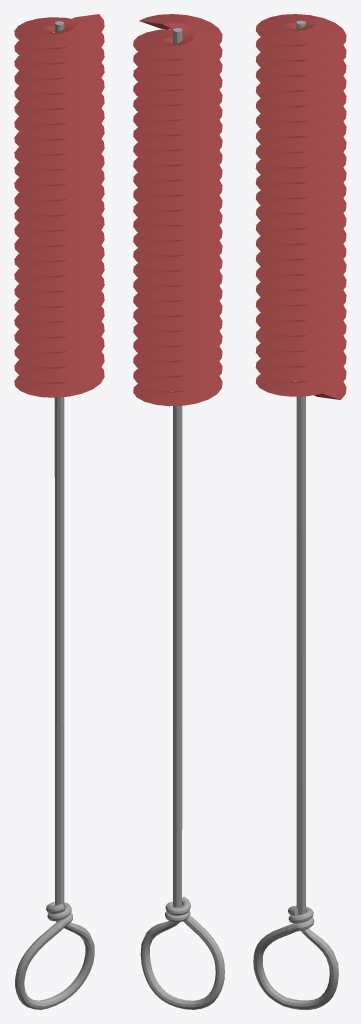
Rendered from TrachBrush.fbx.
3 renders of one model, left to right at view 1: azimuth 30°, elevation 25°; view 2: azimuth 150°, elevation 25°; view 3: azimuth 330°, elevation 25°, orthographic.
Visible parts, largest first — view 1: TracheaTubeBrush:TracheaTubeBrush:TrachBrushBody; view 2: TracheaTubeBrush:TracheaTubeBrush:TrachBrushBody; view 3: TracheaTubeBrush:TracheaTubeBrush:TrachBrushBody.
Part boxes in pixels (<box>): TracheaTubeBrush:TracheaTubeBrush:TrachBrushBody: <box>14,14,104,1009</box>; TracheaTubeBrush:TracheaTubeBrush:TrachBrushBody: <box>133,14,224,1009</box>; TracheaTubeBrush:TracheaTubeBrush:TrachBrushBody: <box>253,14,346,1009</box>.
Bounding box in the file's own units: 21.82 × 242 × 19.92.
